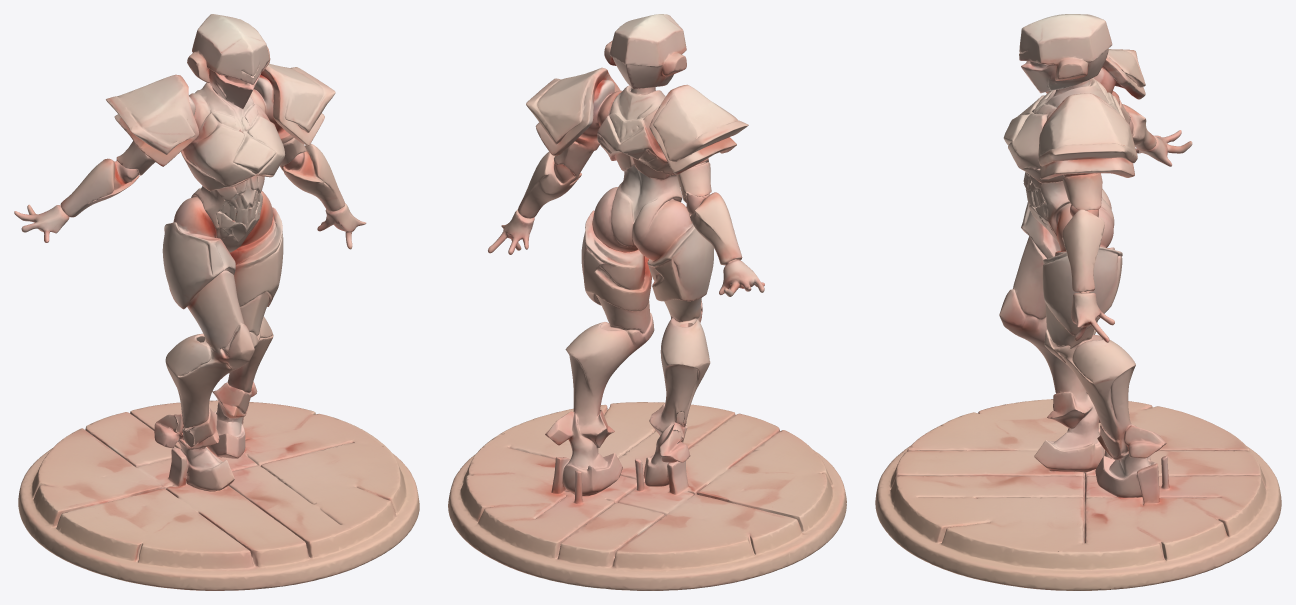
File: Fan3cy_00103.glb
The picture shows the model from 3 angles, left to right: view 1: azimuth 30°, elevation 25°; view 2: azimuth 150°, elevation 25°; view 3: azimuth 270°, elevation 25°; orthographic projection. The views are drawn at different scales.
Visible parts, largest first — view 1: world; view 2: world; view 3: world.
Part boxes in pixels (bbox=[...]): world: bbox=[14, 14, 419, 590]; world: bbox=[448, 14, 846, 590]; world: bbox=[875, 14, 1281, 590].
Bounding box in the file's own units: 0.7456 × 0.9997 × 0.7451.
Materials: 1 (1 with a texture image).
